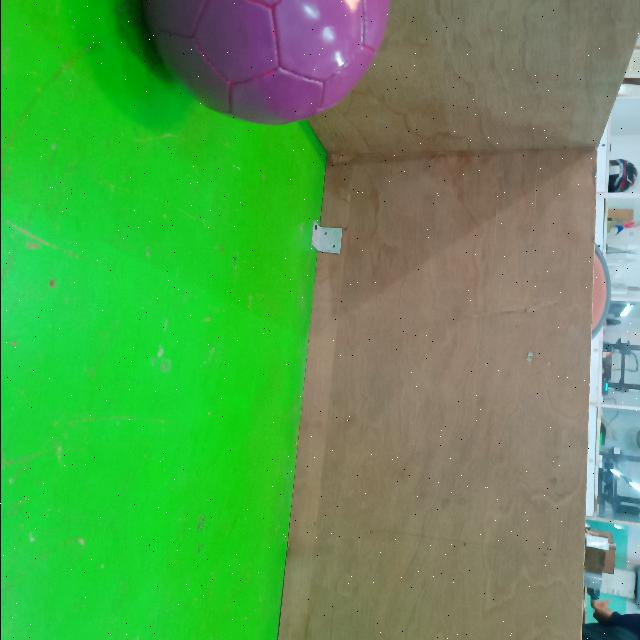P: (130, 0, 394, 132)
